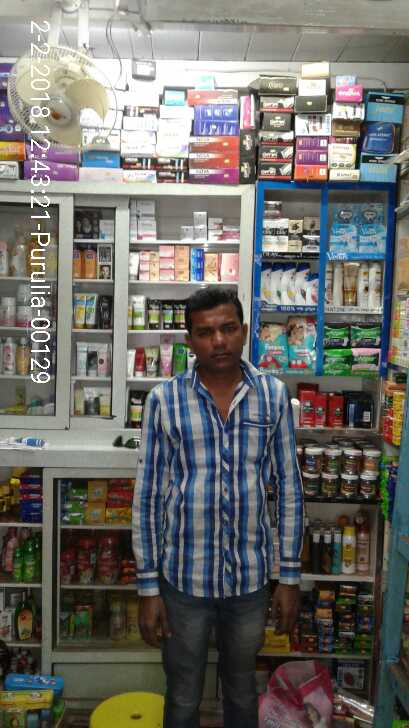venus: (357, 223, 387, 253), (330, 223, 357, 253), (336, 202, 361, 221), (361, 203, 386, 221)
